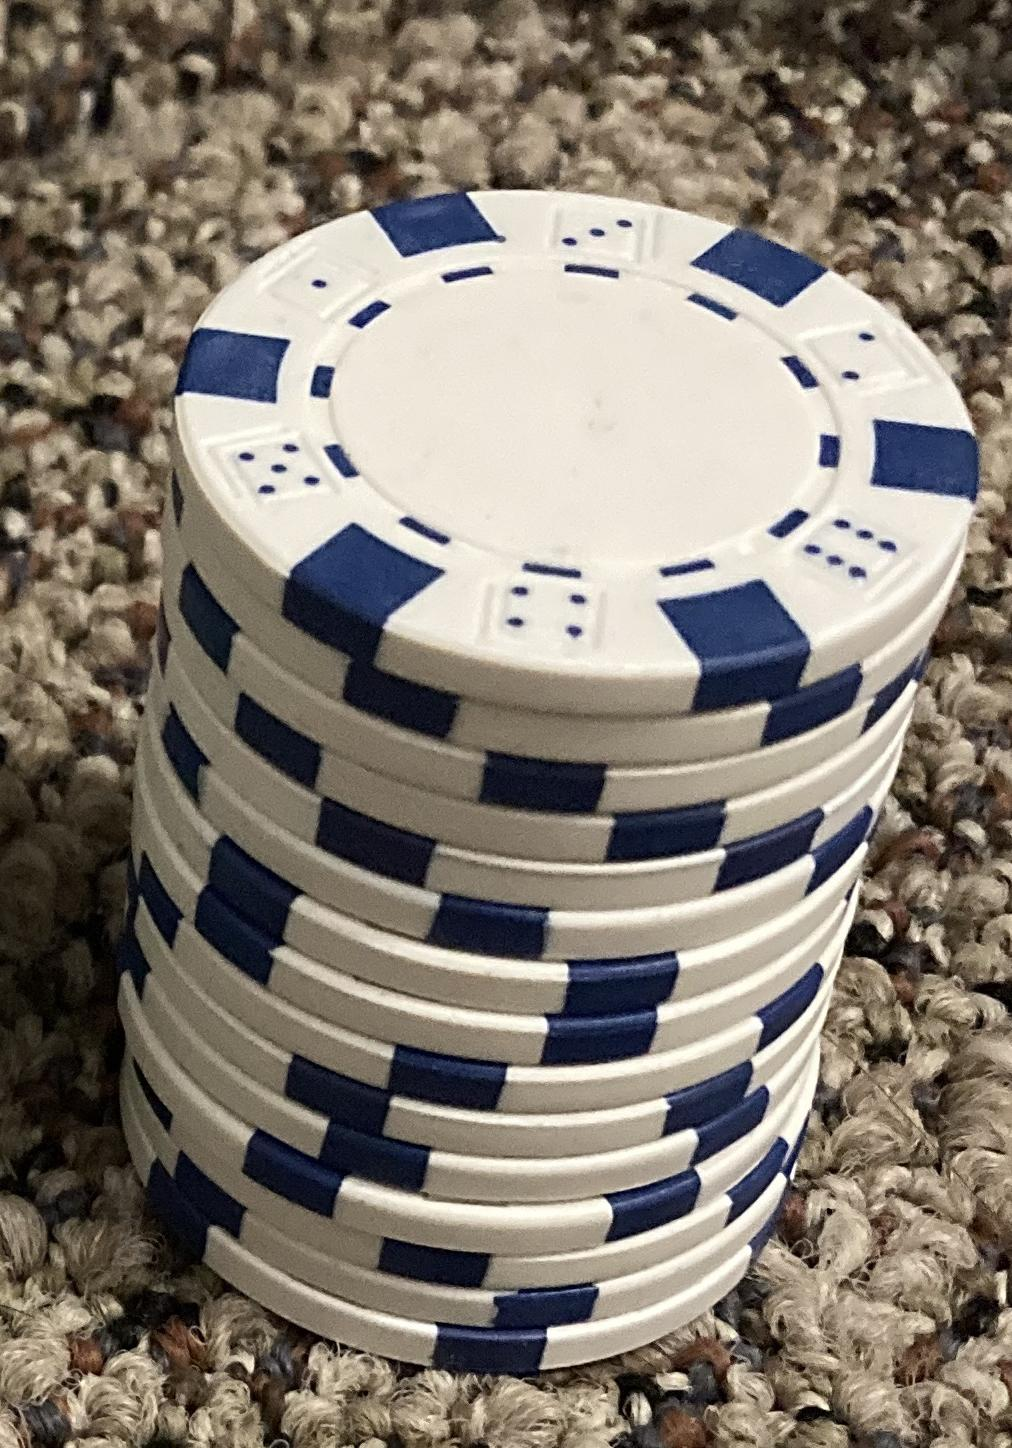Chip: (1, 1, 1012, 1448)
